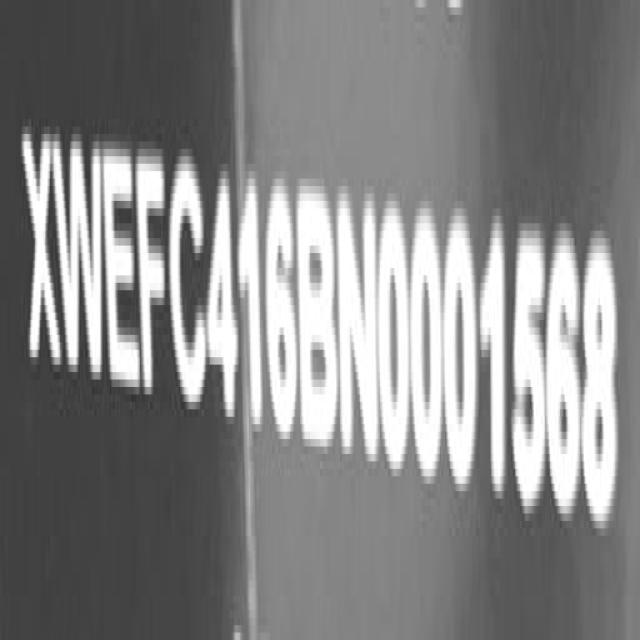0: (410, 190, 444, 491), (442, 204, 478, 482), (378, 202, 411, 472)
1: (481, 209, 508, 502), (236, 165, 264, 428)
4: (205, 157, 239, 430)
5: (513, 226, 546, 507)
6: (546, 226, 581, 524), (263, 171, 298, 433)
8: (582, 234, 618, 526)
B: (296, 171, 338, 466)
C: (168, 135, 207, 416)
E: (100, 127, 140, 397)
F: (137, 146, 167, 400)
N: (336, 187, 378, 463)
W: (53, 138, 103, 386)
X: (22, 107, 63, 380)
